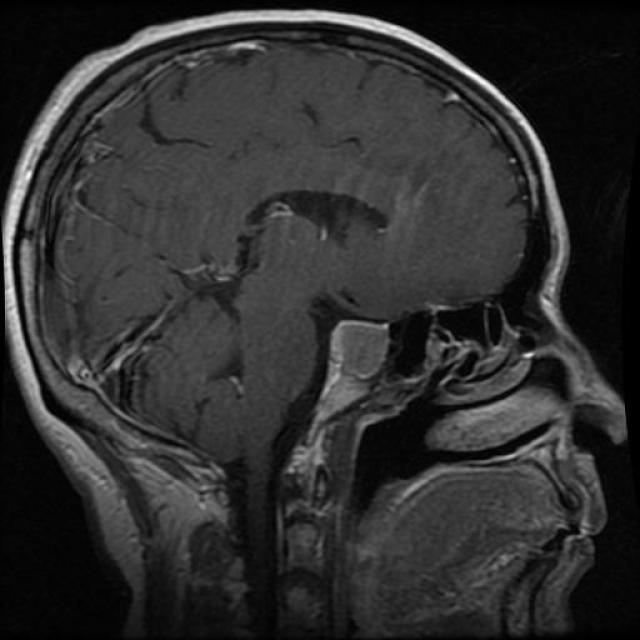pituitary: (292, 302, 398, 424)
